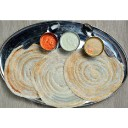dosa: (7, 47, 119, 101)
